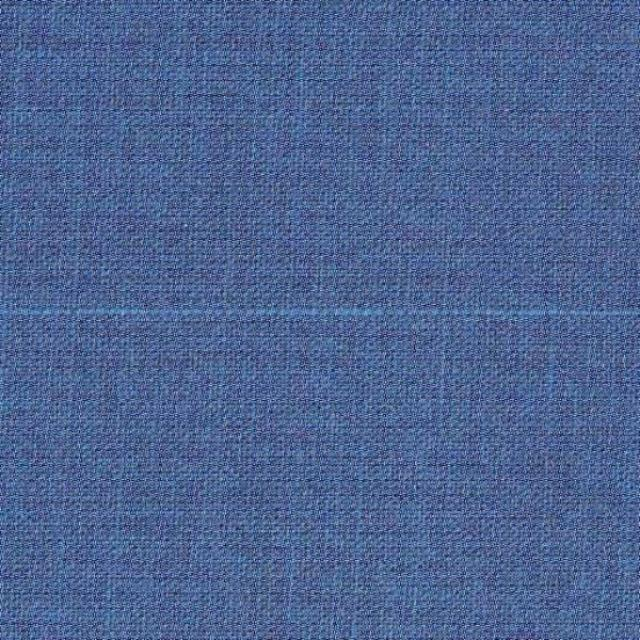Thread_other: (13, 258, 640, 372)
